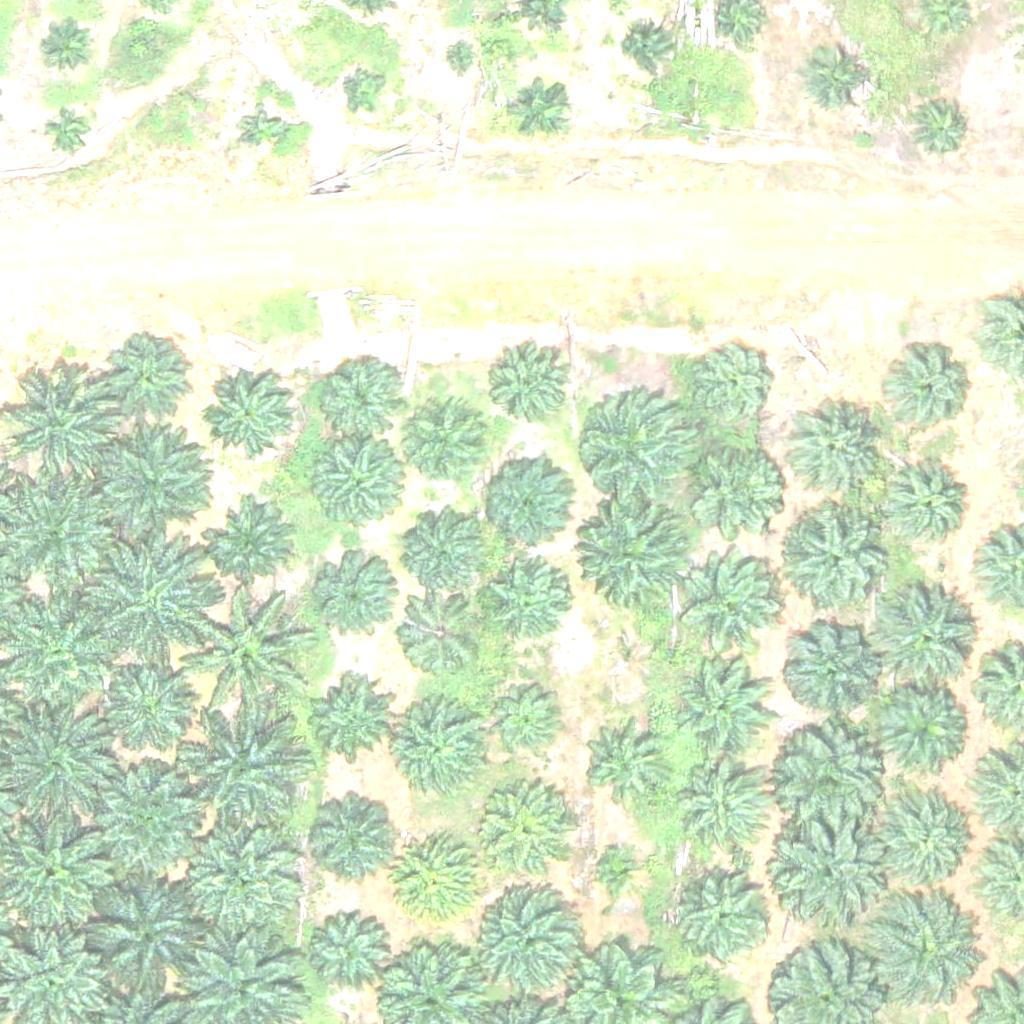Kelapa_Sawit: (1, 360, 126, 486), (83, 539, 208, 665), (83, 765, 208, 891), (80, 872, 205, 998), (183, 708, 308, 834), (180, 592, 305, 718), (468, 880, 593, 1006), (577, 386, 702, 512), (87, 418, 212, 543), (178, 811, 303, 936), (871, 891, 984, 1004), (769, 818, 882, 931), (865, 579, 977, 692), (782, 507, 894, 620), (775, 726, 887, 839), (876, 785, 976, 886), (868, 677, 968, 778), (784, 399, 884, 500), (676, 866, 776, 967), (676, 762, 776, 863), (671, 656, 771, 757), (686, 553, 786, 654), (589, 504, 689, 605), (780, 619, 880, 719), (393, 704, 493, 804), (690, 431, 790, 531), (877, 459, 965, 547), (108, 664, 196, 752), (311, 443, 399, 531), (316, 558, 404, 646), (304, 670, 392, 758), (308, 787, 396, 875), (394, 835, 482, 923), (480, 793, 568, 881), (208, 496, 295, 585), (482, 459, 569, 548), (314, 351, 401, 439), (401, 505, 488, 593), (887, 348, 974, 436), (105, 341, 192, 429), (203, 367, 290, 455), (307, 906, 394, 994), (396, 586, 483, 674), (404, 397, 491, 485), (490, 340, 577, 428), (487, 567, 574, 655), (691, 344, 778, 432), (581, 717, 668, 805), (801, 38, 876, 114), (492, 683, 567, 758), (512, 75, 575, 138), (911, 98, 974, 161), (344, 63, 394, 114), (238, 105, 288, 156), (39, 25, 89, 75), (621, 25, 671, 75), (594, 842, 644, 892), (45, 106, 95, 156), (439, 41, 477, 79)
